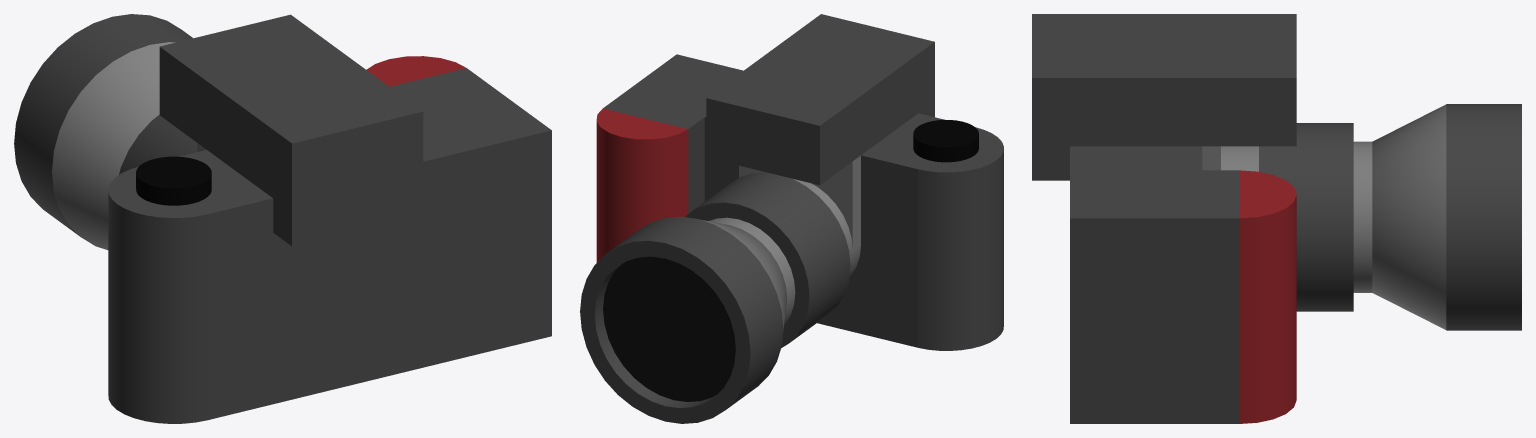
File: camera.glb
The picture shows the model from 3 angles, left to right: view 1: azimuth 30°, elevation 25°; view 2: azimuth 150°, elevation 25°; view 3: azimuth 270°, elevation 25°; orthographic projection. The views are drawn at different scales.
Parts seen in each view (by area): view 1: 7, 8, 2, 9, 6, 5, 3, 4, 1, 10; view 2: 5, 8, 7, 2, 4, 1, 9, 10, 3, 12, 11, 6; view 3: 7, 8, 5, 6, 1, 4, 10, 9, 12, 11.
Part boxes in pixels (x1,y1,x2,y2): 7: (179,82,551,419); 8: (159,14,403,197); 2: (108,166,207,423); 9: (273,97,423,246); 6: (52,42,175,249); 5: (14,14,192,249); 3: (136,156,211,205); 4: (119,114,197,174); 1: (366,56,465,86); 10: (390,68,485,100); 5: (580,216,783,423); 8: (706,26,918,185); 7: (619,54,943,347); 2: (918,127,1003,350); 4: (685,172,850,347); 1: (596,108,688,262); 9: (805,14,934,117); 10: (603,96,704,213); 3: (913,119,978,162); 12: (708,178,860,324); 11: (739,155,860,250); 6: (700,219,787,330); 7: (1070,146,1202,423); 8: (1070,14,1296,146); 5: (1446,104,1521,330); 6: (1372,104,1446,329); 1: (1240,170,1296,423); 4: (1259,123,1353,311); 10: (1202,170,1239,423); 9: (1032,14,1069,180); 12: (1221,141,1372,292); 11: (1202,146,1220,170).
Bounding box in the file's own units: 24.5 × 16 × 25.91.
